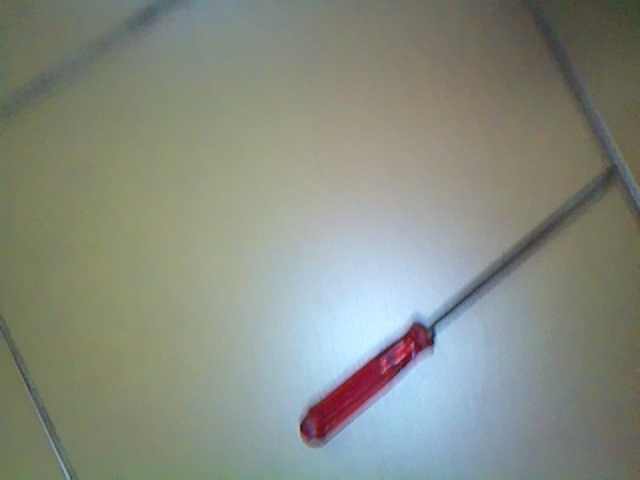redskrew: (295, 181, 605, 452)
